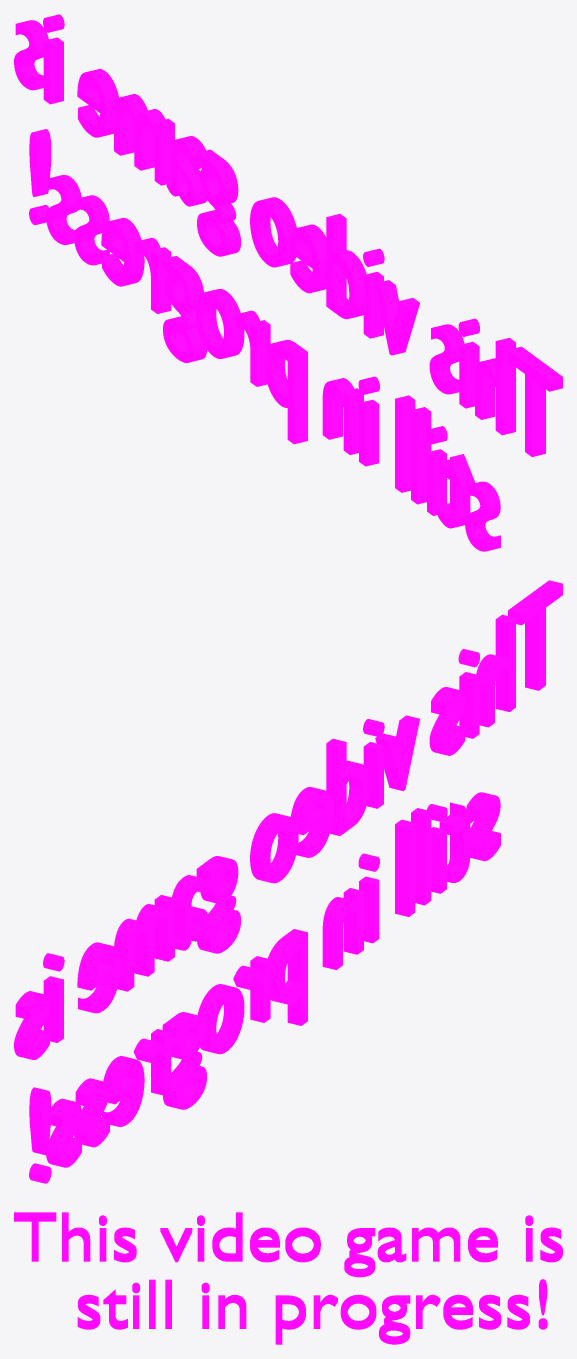
Rendered from thisvideogameisstillinprogress.glb.
3 renders of one model, top to bottom at view 1: azimuth 30°, elevation 25°; view 2: azimuth 150°, elevation 25°; view 3: azimuth 270°, elevation 25°, orthographic. The views are drawn at different scales.
Parts seen in each view (by area): view 1: Tekst; view 2: Tekst; view 3: Tekst.
Part boxes in pixels (x1,y1,x2,y2): Tekst: (14, 14, 562, 551); Tekst: (14, 580, 562, 1183); Tekst: (14, 1212, 562, 1344).
Size of the model in its own units: 0.1105 by 1.91 by 7.39.
